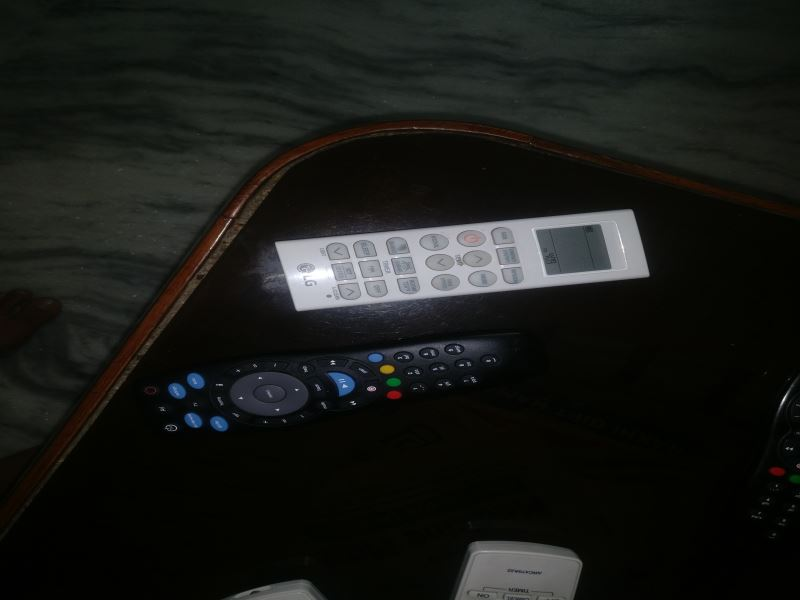ac remote: (274, 209, 657, 314)
tv remote: (143, 332, 533, 447)
